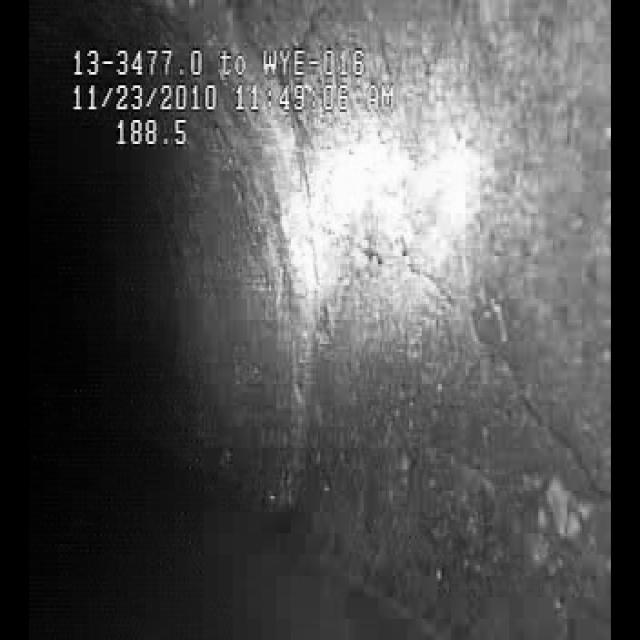Crack: (462, 280, 590, 490)
